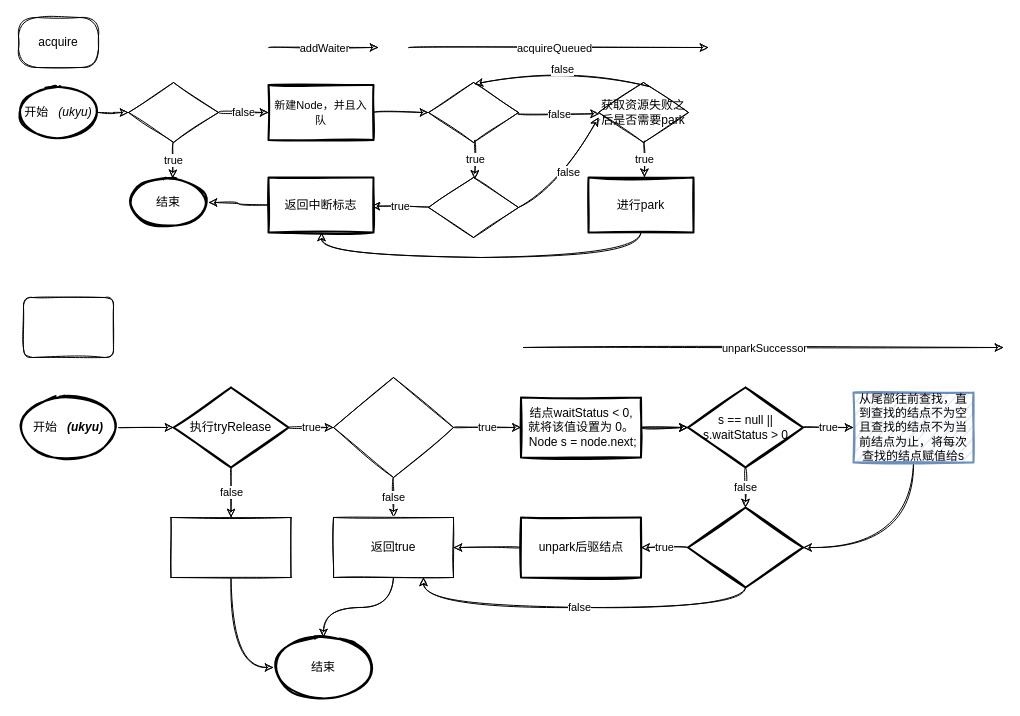
The diagram is 1020 pixels wide and 716 high, and some of its shapes have lost their labels. Here are the shapes that lost their labels. From the top down, the centre of each, then its label:
At (173,112): "执行tryAcquire".
At (473,112): "检测结点是否是老二".
At (473,207): "尝试获取资源(tryAcquire)".
At (68,327): "release".
At (393,427): "Node h = head; (h != null && h.waitStatus != 0)".
At (230,547): "返回false".
At (745,547): "s != null".
